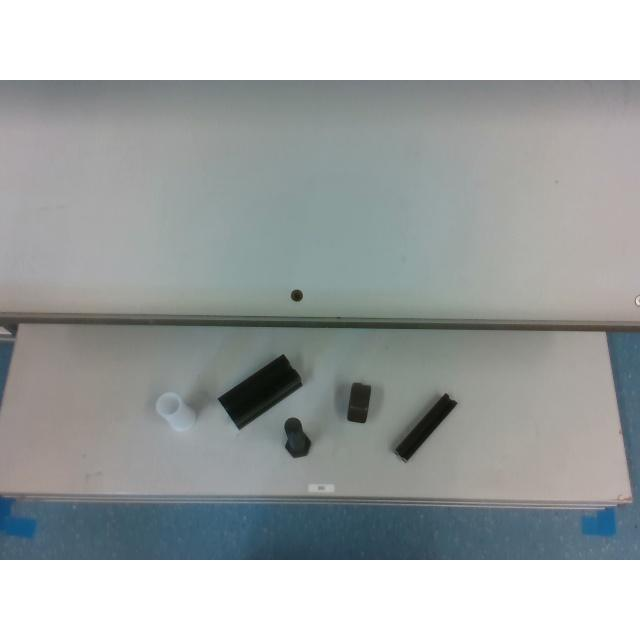F20_20_B: (394, 393, 456, 461)
M20_100: (284, 417, 310, 457)
M30: (346, 382, 370, 422)
S40_40_B: (218, 354, 302, 428)
Spacer: (155, 392, 195, 432)
